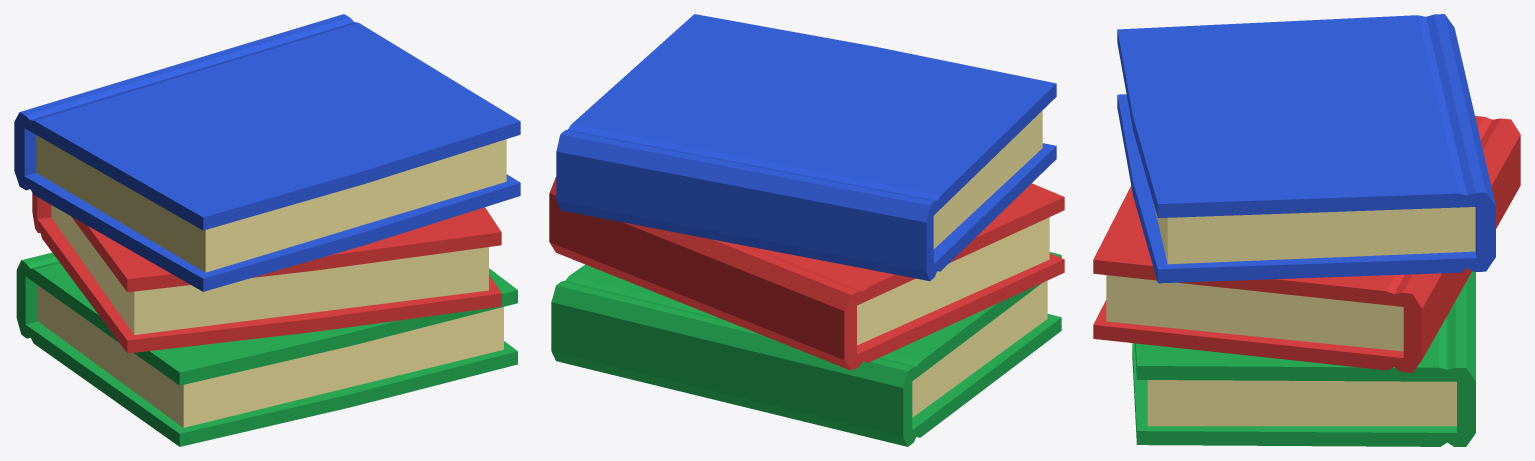
The model's file is PileOfBooks.fbx.
3 renders of one model, left to right at view 1: azimuth 30°, elevation 25°; view 2: azimuth 150°, elevation 25°; view 3: azimuth 270°, elevation 25°, orthographic. The views are drawn at different scales.
Visible parts, largest first — view 1: TopBookMesh, StackOfBooks, MidBookMesh; view 2: TopBookMesh, StackOfBooks, MidBookMesh; view 3: TopBookMesh, MidBookMesh, StackOfBooks.
Boxes of the visible parts, box(x1,y1,x2,y2) form: TopBookMesh: box(14, 14, 520, 291); StackOfBooks: box(16, 252, 517, 446); MidBookMesh: box(32, 193, 501, 353); TopBookMesh: box(556, 14, 1056, 281); StackOfBooks: box(551, 252, 1061, 446); MidBookMesh: box(549, 177, 1064, 370); TopBookMesh: box(1117, 14, 1495, 283); MidBookMesh: box(1093, 116, 1520, 372); StackOfBooks: box(1132, 271, 1475, 446).
Size of the model in its own units: 396 by 222 by 348.
